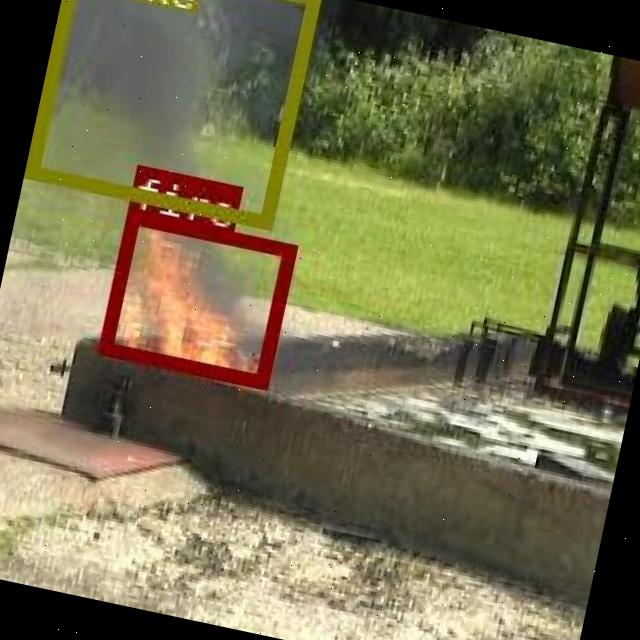fire: (95, 206, 292, 386)
smoke: (24, 0, 317, 227)
